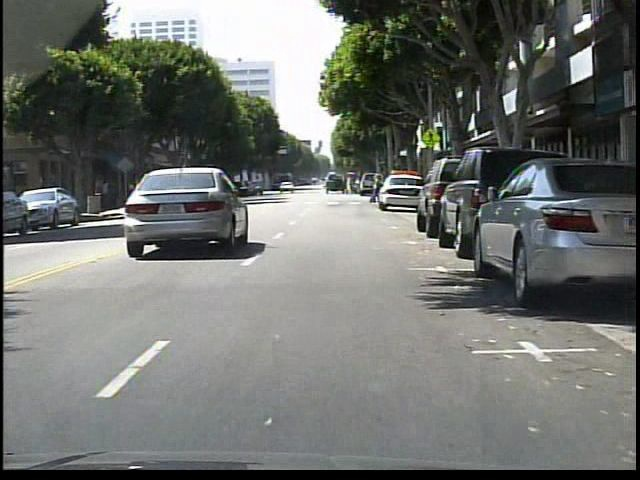person: (100, 176, 113, 208), (350, 173, 351, 193)
